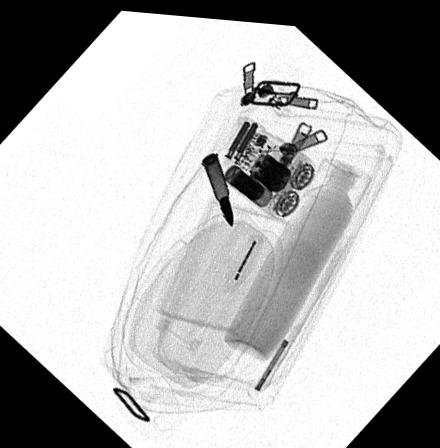Bullet: (200, 148, 234, 225)
